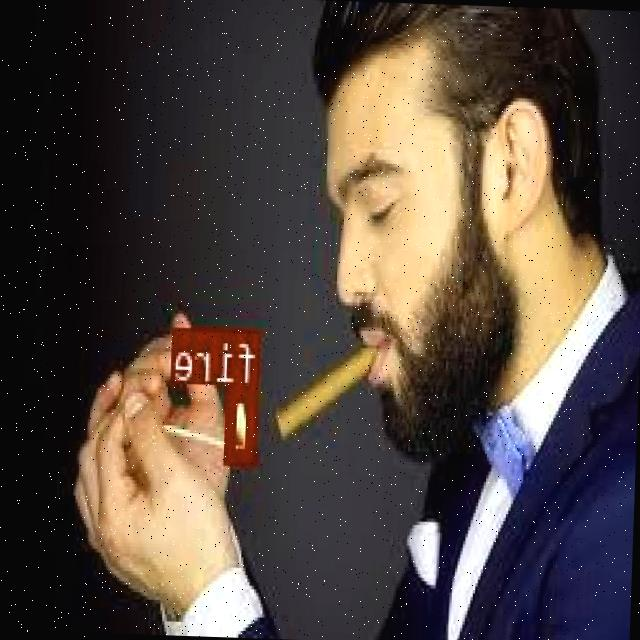fire: (226, 384, 260, 462)
